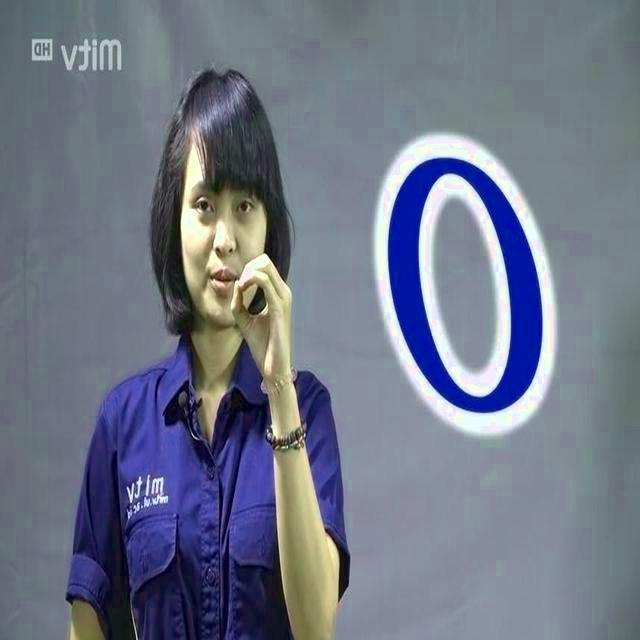O: (227, 248, 295, 349)
